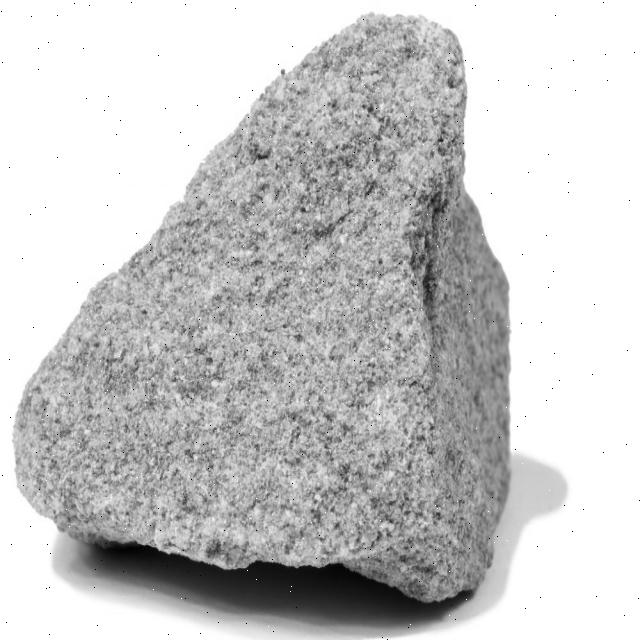Metamorphic: (13, 3, 536, 640)
